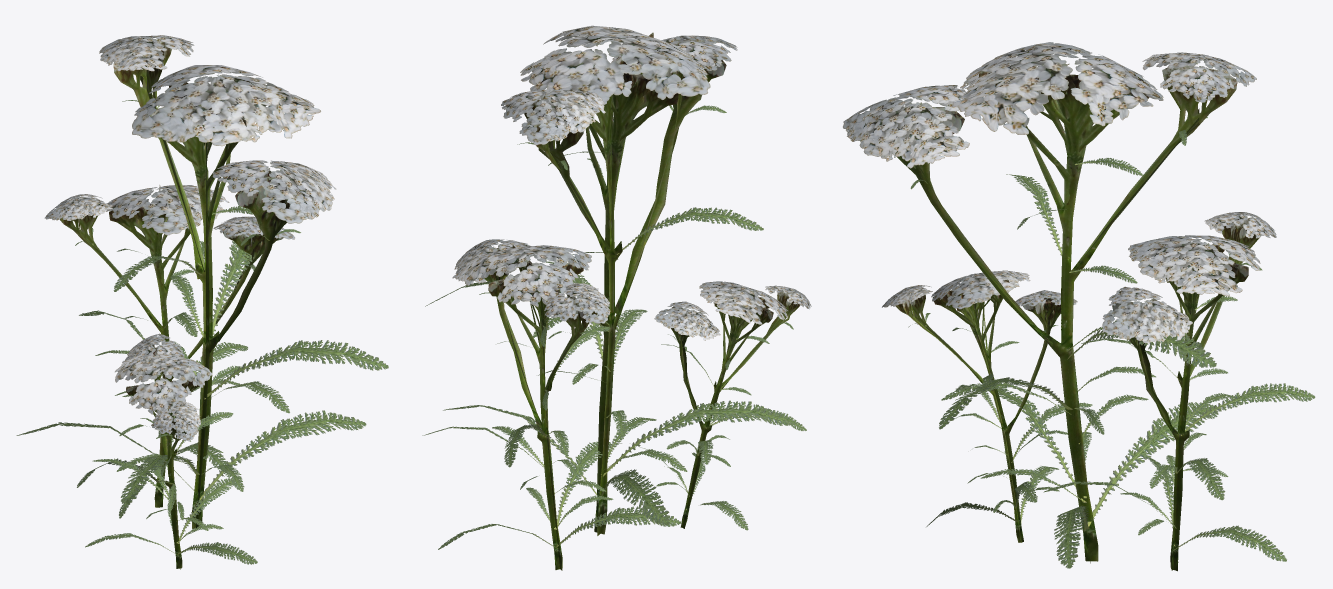
The model's file is Yarrow.glb.
3 views of the same model, side by side, from view 1: azimuth 30°, elevation 25°; view 2: azimuth 150°, elevation 25°; view 3: azimuth 270°, elevation 25° (orthographic). The views are drawn at different scales.
Parts seen in each view (by area): view 1: Yarrow; view 2: Yarrow; view 3: Yarrow.
Part boxes in pixels (box(x1,y1,x2,y2)): Yarrow: box(16, 35, 388, 569); Yarrow: box(422, 25, 811, 570); Yarrow: box(843, 42, 1315, 571).
Size of the model in its own units: 0.4123 by 0.6183 by 0.512.
1 material, 1 textured.
